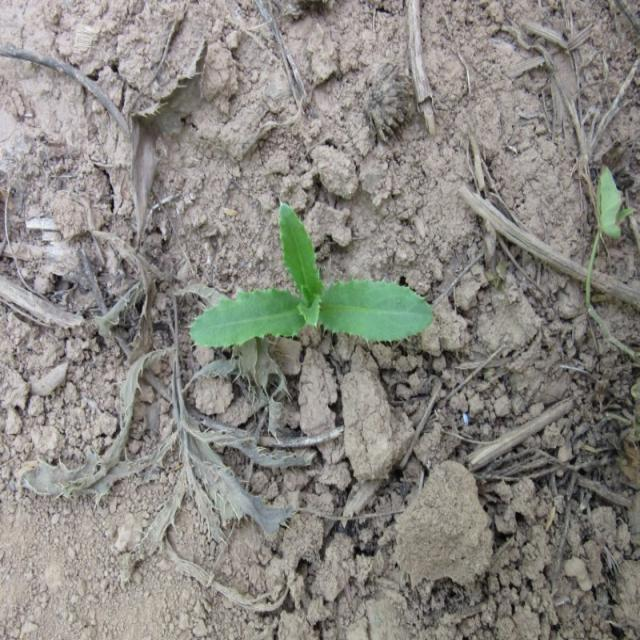field_thistle: (185, 191, 434, 388)
